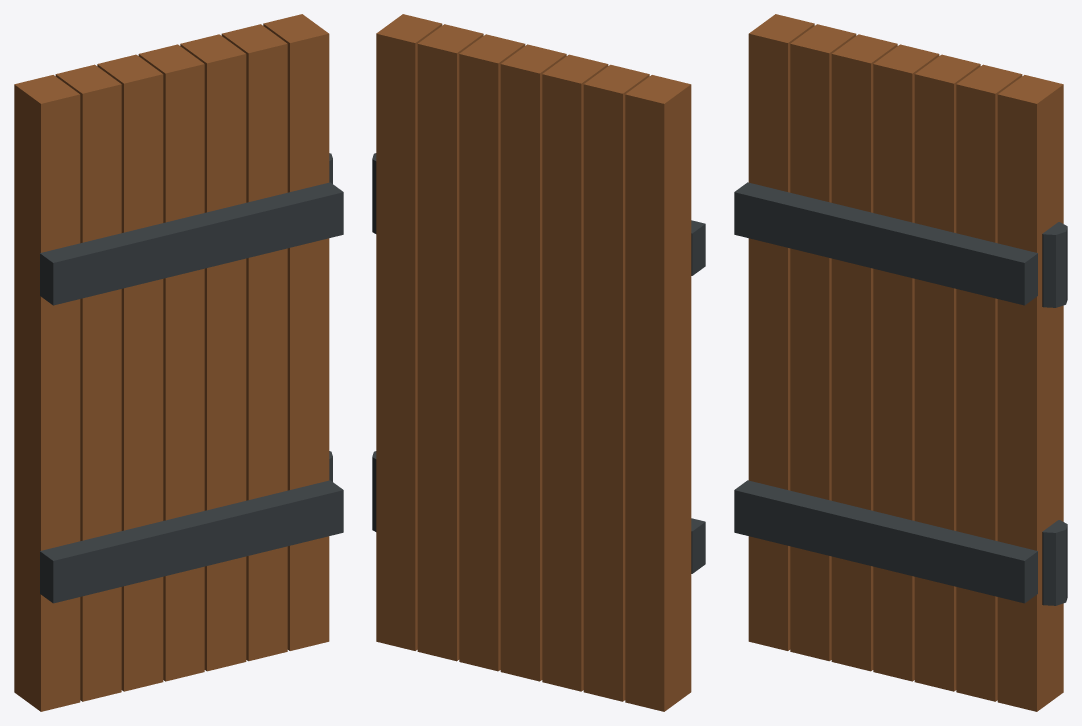
Rendered from 850_plain_plank_shutter_leaf.fbx.
The picture shows the model from 3 angles, left to right: view 1: azimuth 30°, elevation 25°; view 2: azimuth 150°, elevation 25°; view 3: azimuth 330°, elevation 25°; orthographic projection.
Visible parts, largest first — view 1: 850_plain_plank_shutter_leaf; view 2: 850_plain_plank_shutter_leaf; view 3: 850_plain_plank_shutter_leaf.
Part boxes in pixels (<box>): 850_plain_plank_shutter_leaf: <box>14,14,343,711</box>; 850_plain_plank_shutter_leaf: <box>372,14,705,711</box>; 850_plain_plank_shutter_leaf: <box>734,14,1067,711</box>.
Size of the model in its own units: 0.525 by 1 by 0.12.
1 material, 1 textured.
